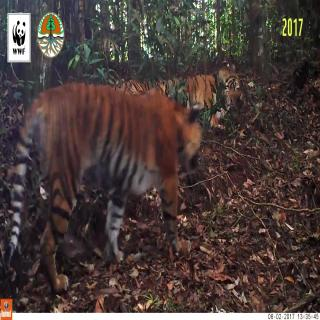Tiger: (6, 92, 208, 290), (142, 56, 250, 100)
